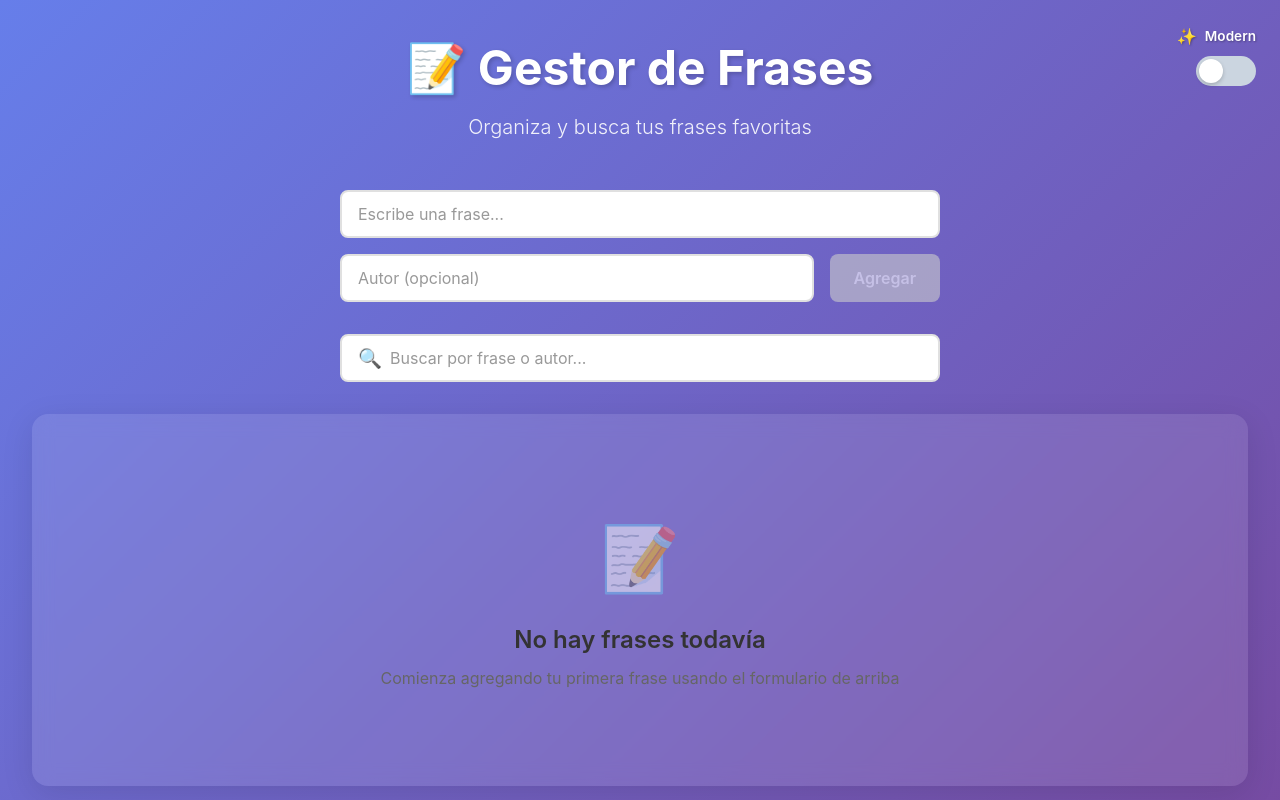
App - Integration Tests › should add a phrase and display it
Type "Mi primera frase de prueba" into the field with placeholder "Escribe una frase...".
click(640, 214); type("Mi primera frase de prueba")  # box [340,190,940,238]
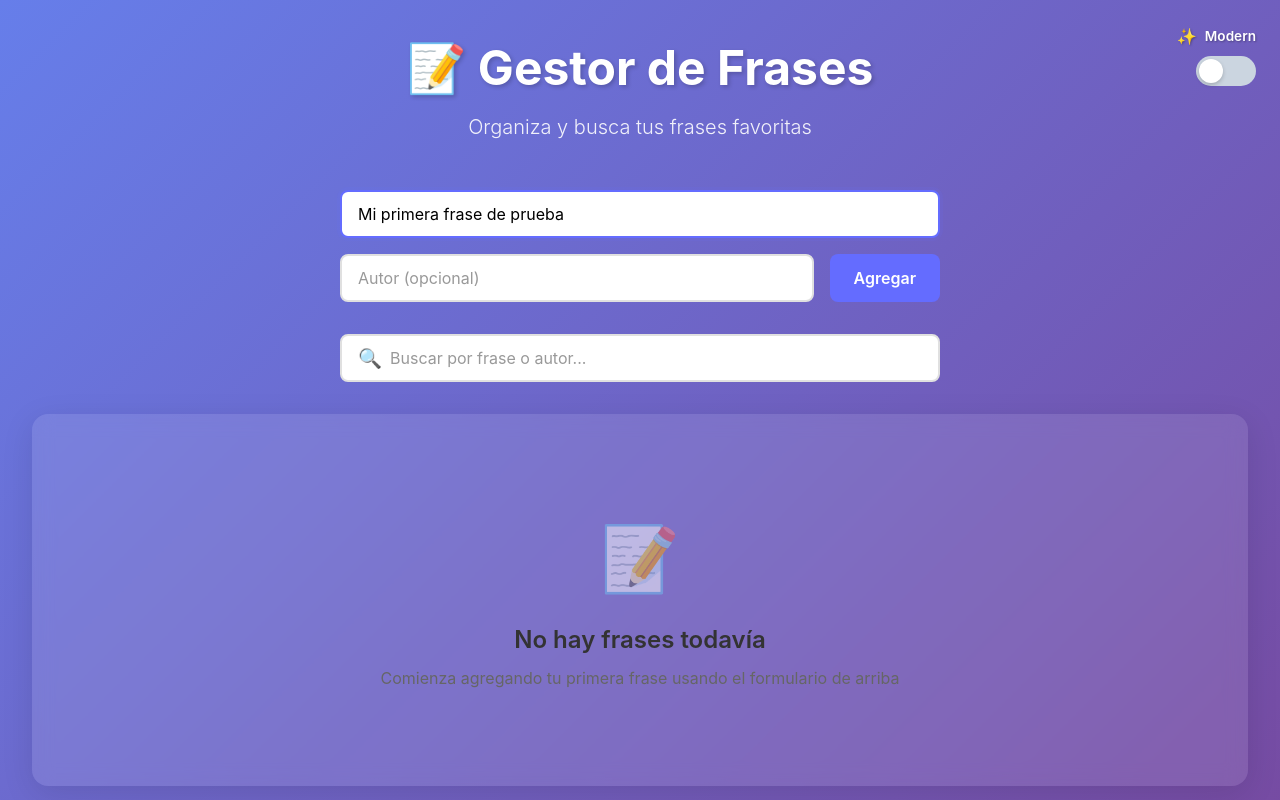
Click the button "Agregar".
click(885, 278)  # box [830,254,940,302]
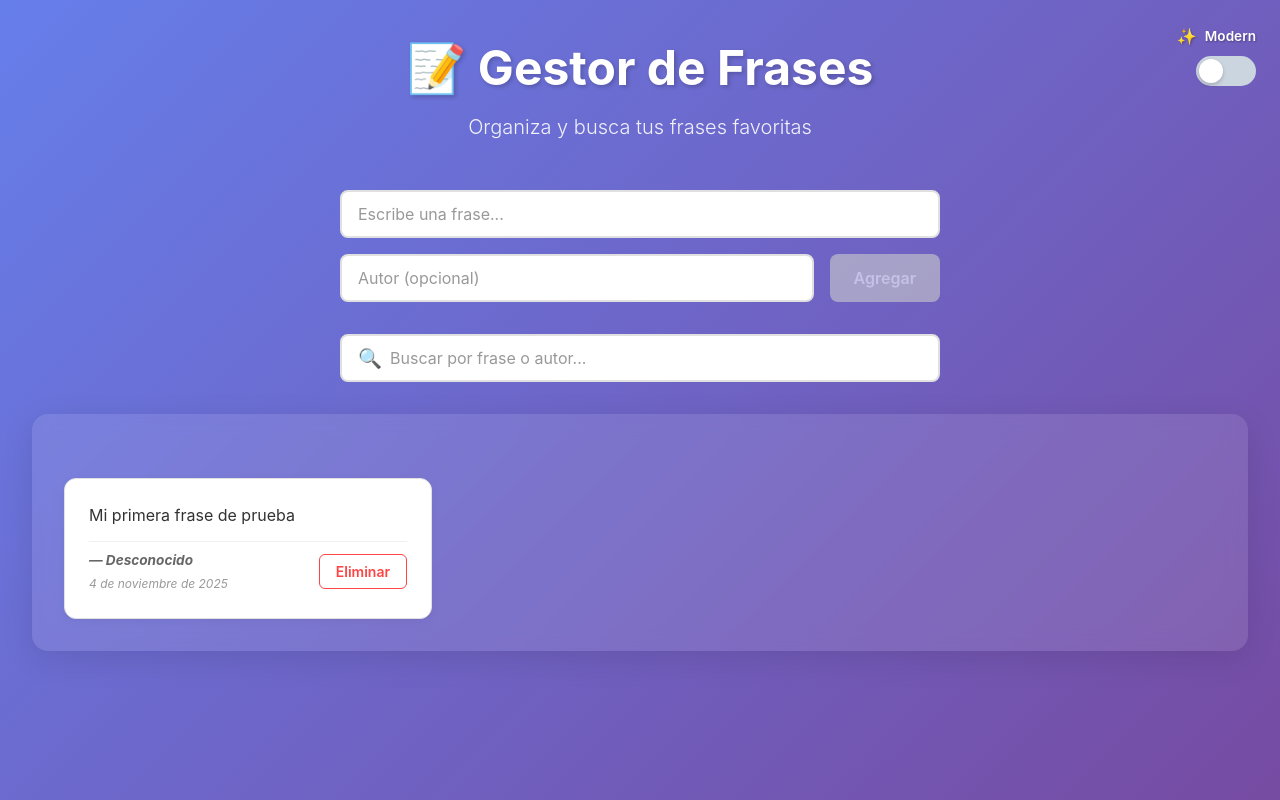
Expected: the text "Mi primera frase de prueba" is shown, [89,505,295,525]
Expected: the heading "No hay frases todavía" is gone
